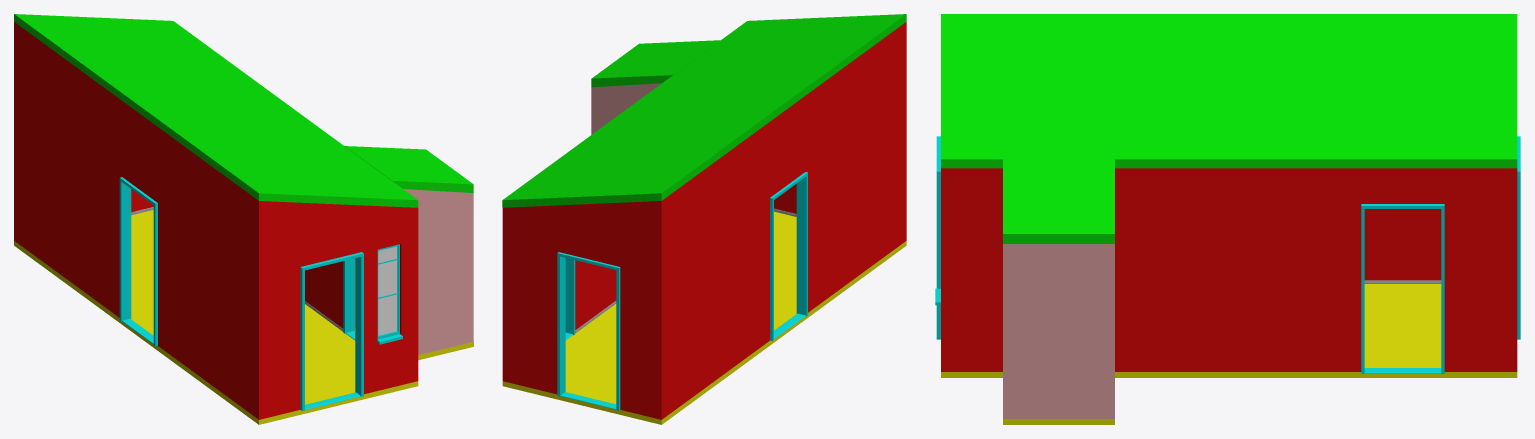
Rendered from FloorPlan524_physics.fbx.
3 views of the same model, side by side, from view 1: azimuth 30°, elevation 25°; view 2: azimuth 150°, elevation 25°; view 3: azimuth 270°, elevation 25° (orthographic). The views are drawn at different scales.
Parts seen in each view (by area): view 1: FP524:Walls_1, FP524:Ceiling_1, FP524:Walls_2, FP524:Floor_1, FP524:Ceiling_2, FP524:DoorFrame_4, FP524:DoorFrame_1, FP524:WindowPane_1, FP524:DoorFrame_5, FP524:WindowFrame_1; view 2: FP524:Walls_1, FP524:Ceiling_1, FP524:Floor_1, FP524:Ceiling_2, FP524:DoorFrame_4, FP524:DoorFrame_3, FP524:Walls_2, FP524:DoorFrame_2; view 3: FP524:Ceiling_1, FP524:Walls_1, FP524:Walls_2, FP524:Ceiling_2, FP524:Floor_1, FP524:DoorFrame_2, FP524:DoorFrame_1, FP524:DoorFrame_3, FP524:Floor_2.
Boxes of the visible parts, bbox=[...] form: FP524:Walls_1: bbox=[14, 22, 418, 419]; FP524:Ceiling_1: bbox=[14, 14, 418, 207]; FP524:Walls_2: bbox=[355, 189, 473, 355]; FP524:Floor_1: bbox=[14, 210, 418, 424]; FP524:Ceiling_2: bbox=[345, 146, 473, 192]; FP524:DoorFrame_4: bbox=[119, 177, 157, 346]; FP524:DoorFrame_1: bbox=[300, 252, 363, 410]; FP524:WindowPane_1: bbox=[378, 246, 397, 335]; FP524:DoorFrame_5: bbox=[343, 258, 354, 333]; FP524:WindowFrame_1: bbox=[377, 244, 402, 344]; FP524:Walls_1: bbox=[502, 22, 906, 419]; FP524:Ceiling_1: bbox=[502, 14, 906, 207]; FP524:Floor_1: bbox=[502, 211, 906, 424]; FP524:Ceiling_2: bbox=[591, 40, 720, 87]; FP524:DoorFrame_4: bbox=[770, 172, 807, 341]; FP524:DoorFrame_3: bbox=[557, 252, 620, 410]; FP524:Walls_2: bbox=[591, 83, 661, 134]; FP524:DoorFrame_2: bbox=[565, 258, 575, 335]; FP524:Ceiling_1: bbox=[941, 14, 1517, 168]; FP524:Walls_1: bbox=[941, 168, 1517, 371]; FP524:Walls_2: bbox=[1003, 244, 1114, 418]; FP524:Ceiling_2: bbox=[1003, 159, 1114, 243]; FP524:Floor_1: bbox=[941, 284, 1517, 377]; FP524:DoorFrame_2: bbox=[1361, 204, 1444, 373]; FP524:DoorFrame_1: bbox=[936, 136, 940, 339]; FP524:DoorFrame_3: bbox=[1517, 136, 1520, 339]; FP524:Floor_2: bbox=[1003, 419, 1114, 424].
Bounding box in the file's own units: 368 × 334 × 651.
